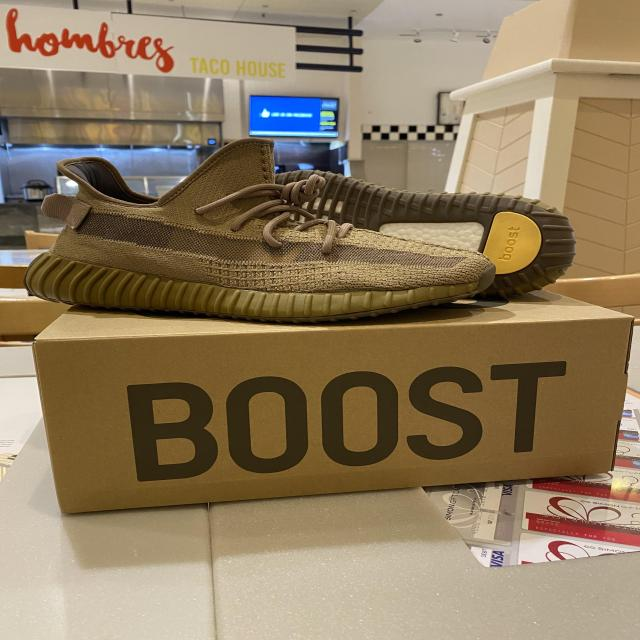shoe: (7, 125, 511, 331)
